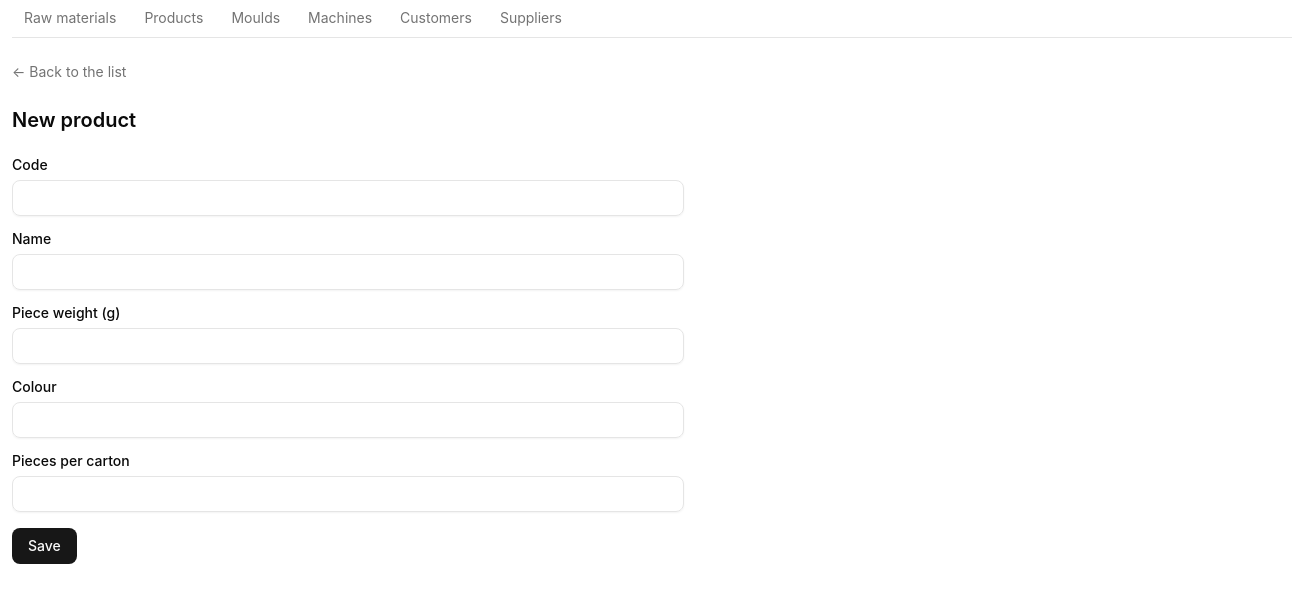
Scenario: products › takes the piece weight in grams and sends milligrams
Type "CAP-28" into the field labelled "Code" at (348, 198), box top-left (12, 180), bottom-right (684, 216)
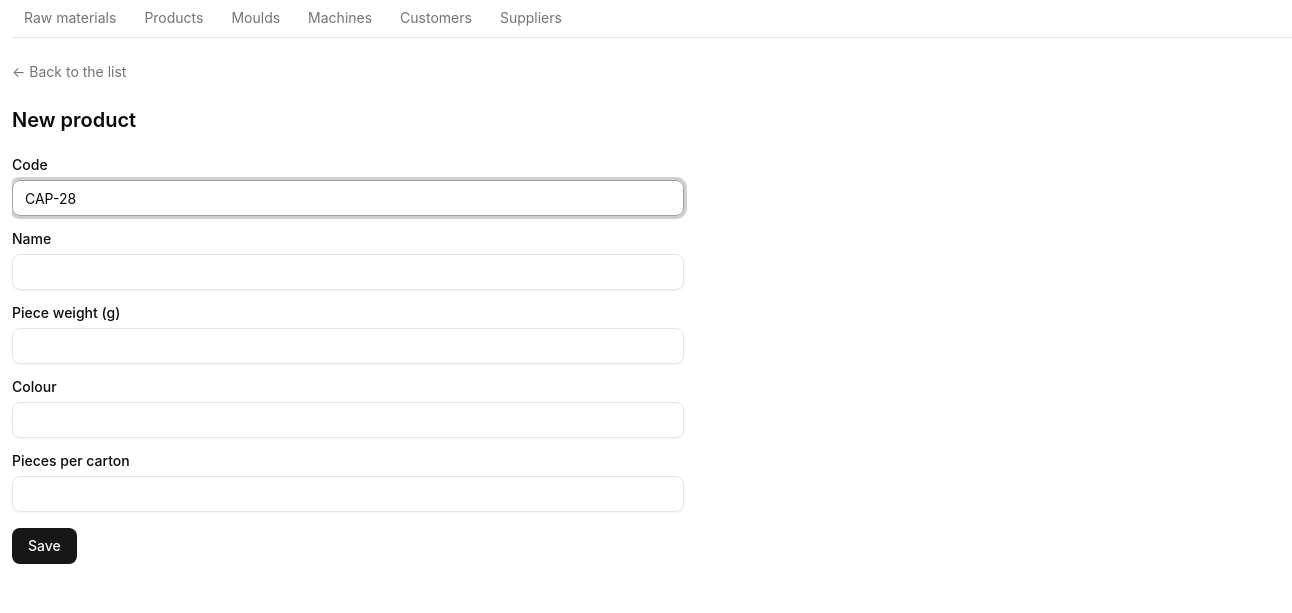
Type "28 mm bottle cap" into the field labelled "Name" at (348, 272), box top-left (12, 254), bottom-right (684, 290)
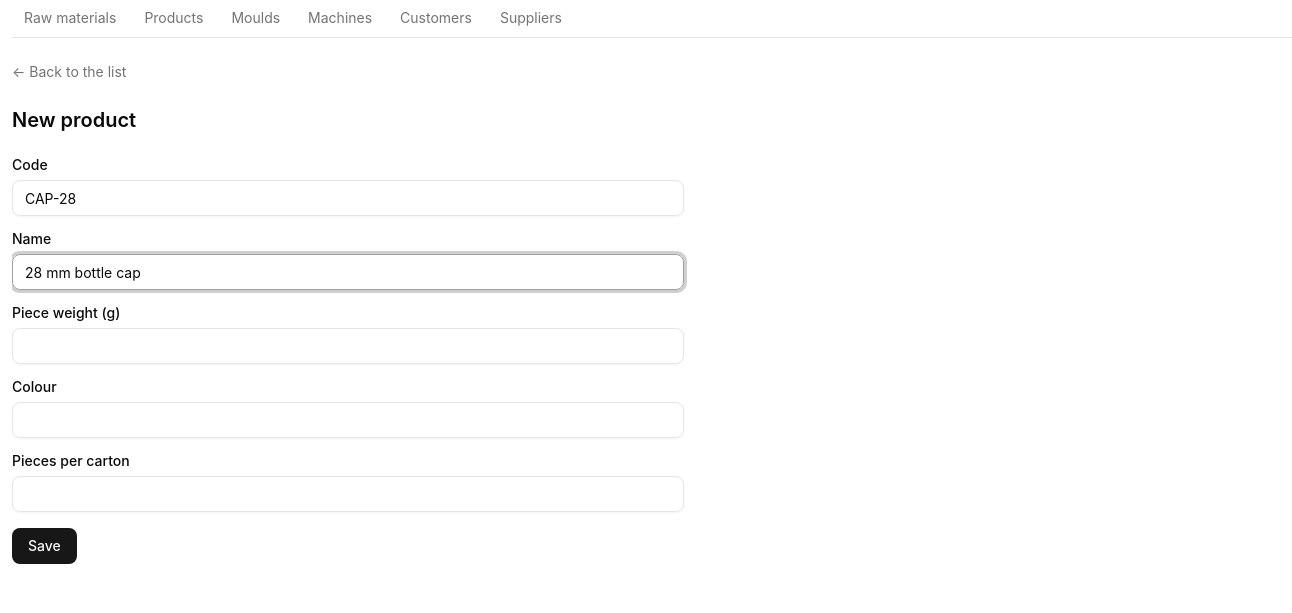
Type "2.5" into the field labelled "Piece weight (g)" at (348, 346), box top-left (12, 328), bottom-right (684, 364)
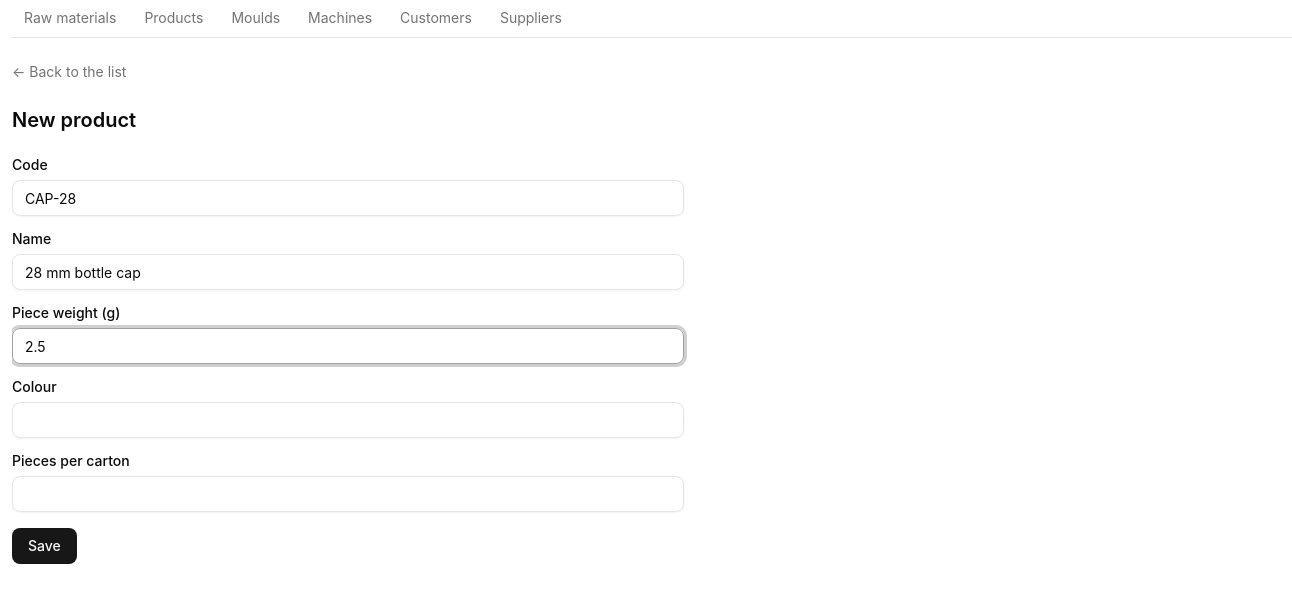
Type "White" into the field labelled "Colour" at (348, 420), box top-left (12, 402), bottom-right (684, 438)
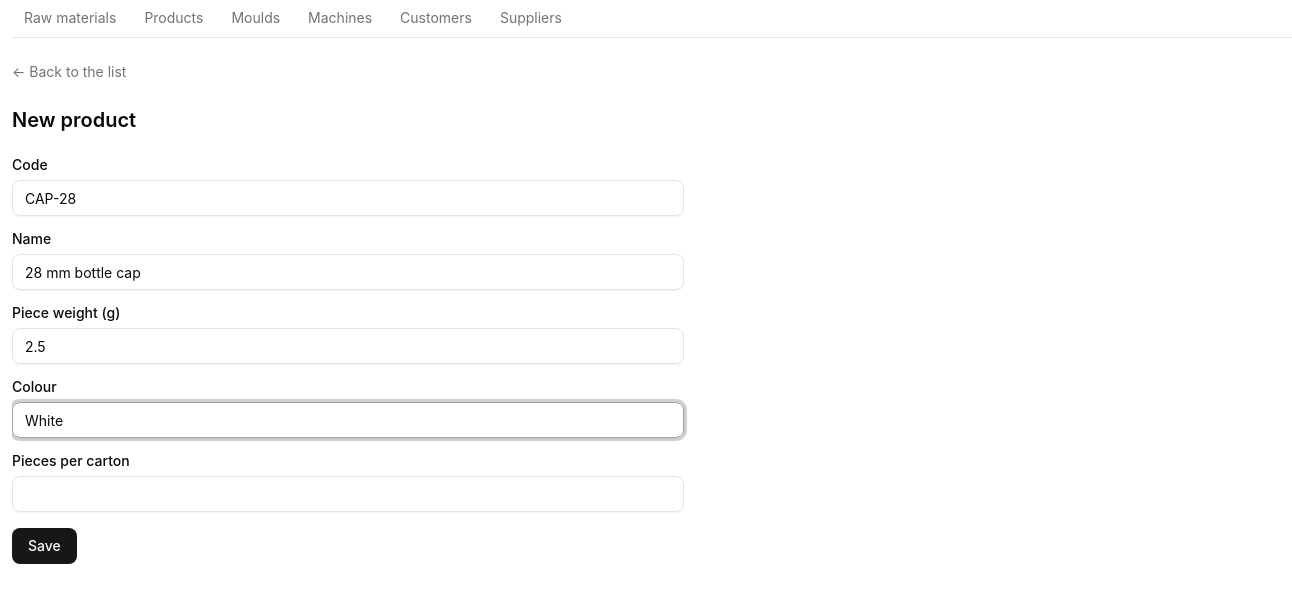
Type "2000" into the field labelled "Pieces per carton" at (348, 494), box top-left (12, 476), bottom-right (684, 512)
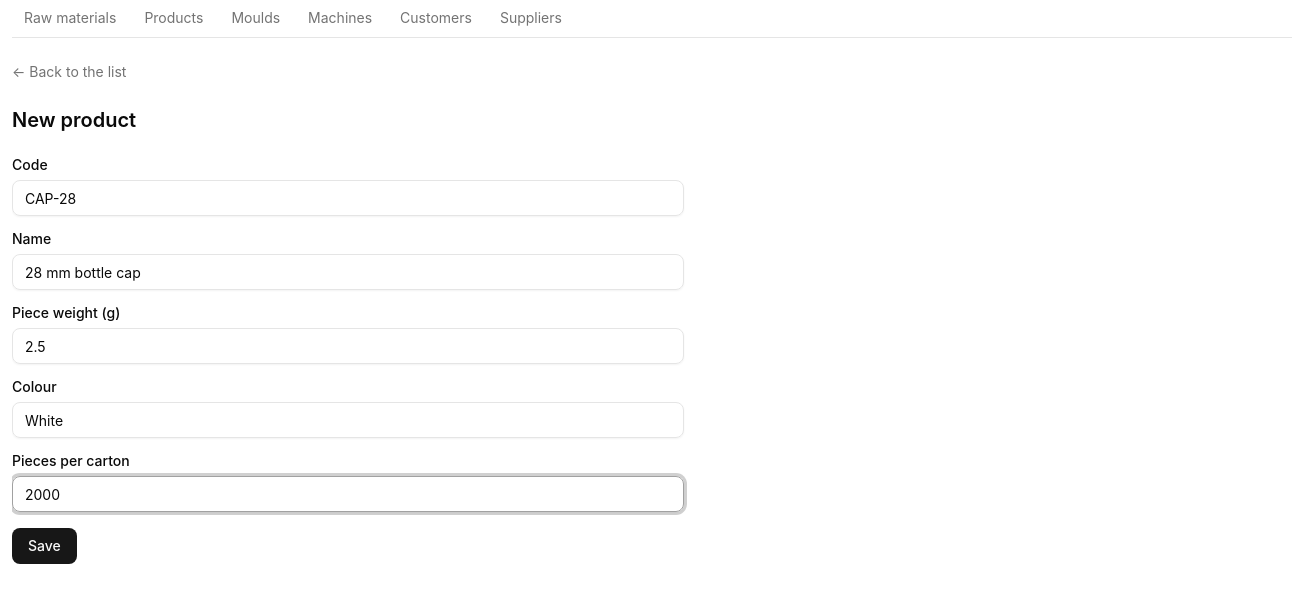
Click the button "Save" at (44, 546), box top-left (12, 528), bottom-right (77, 564)
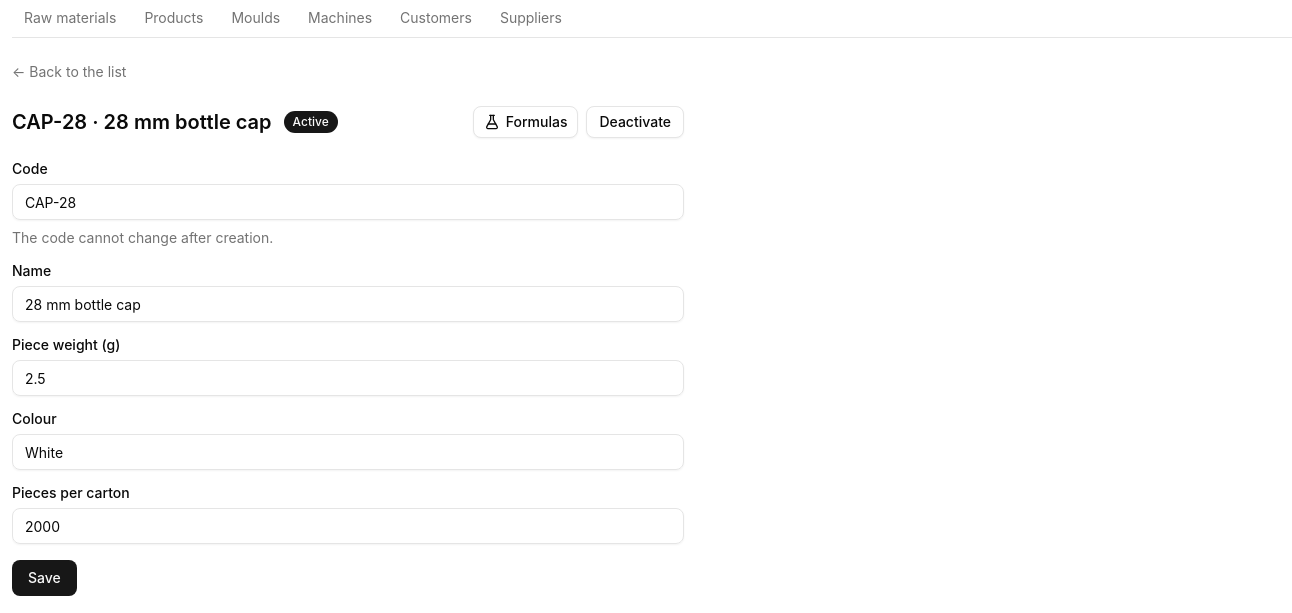
Expected: the field labelled "Piece weight (g)" holds "2.5", top-left (12, 360), bottom-right (684, 396)
Expected: the link "Formulas" is shown, top-left (473, 106), bottom-right (578, 138)
